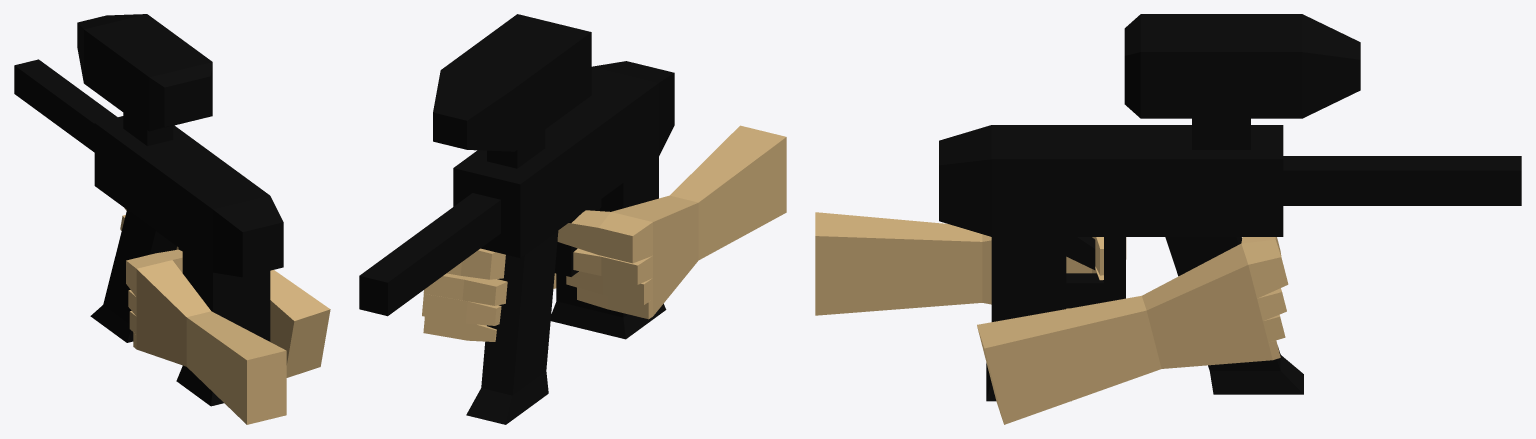
Rendered from paintballgun.glb.
The picture shows the model from 3 angles, left to right: view 1: azimuth 30°, elevation 25°; view 2: azimuth 150°, elevation 25°; view 3: azimuth 270°, elevation 25°; orthographic projection. The views are drawn at different scales.
Visible parts, largest first — view 1: Cube; view 2: Cube; view 3: Cube.
Part boxes in pixels (left/top/right/bottom): Cube: left=14, top=14, right=330, bottom=424; Cube: left=359, top=14, right=786, bottom=424; Cube: left=815, top=14, right=1521, bottom=424.
Bounding box in the file's own units: 2.76 × 5.01 × 9.01.
